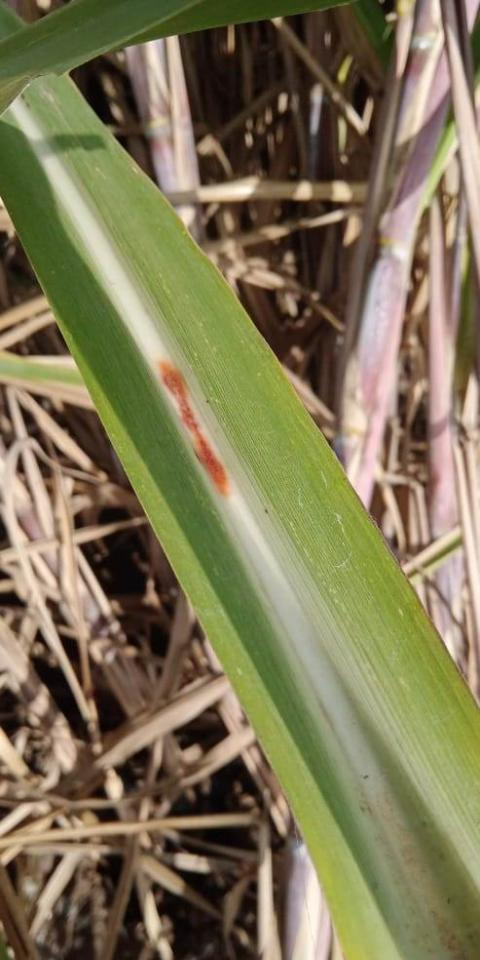RedRot: (155, 357, 232, 502)
